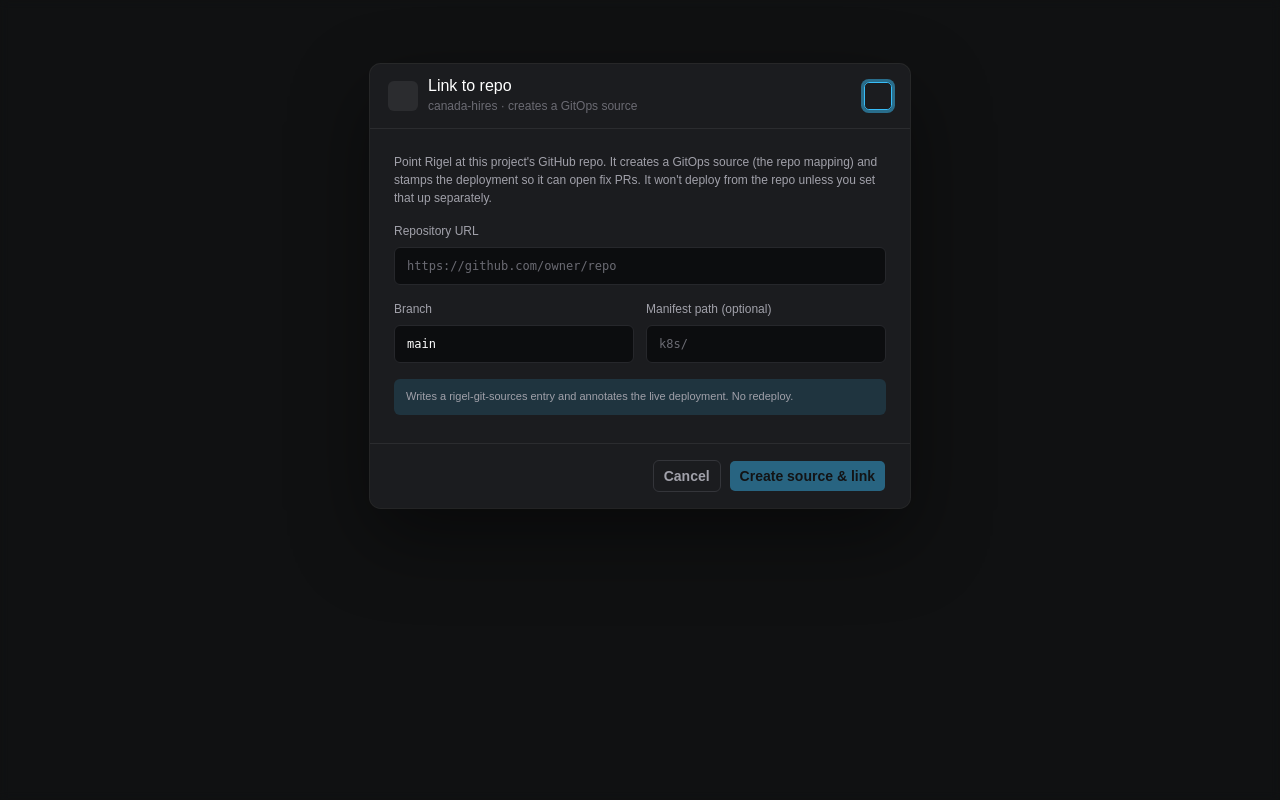
Scenario: LinkRepoModal › shows the deployment subtitle and keeps submit disabled until a repo URL is entered
Expected: the text "canada-hires · creates a GitOps source" is shown, [428, 98, 637, 114]
Expected: the button "Create source & link" is disabled, [729, 460, 886, 492]
In the field labelled "Repository URL": coordinates (640, 266) [394, 247, 886, 285], type "https://github.com/tyrel/canada-hires"
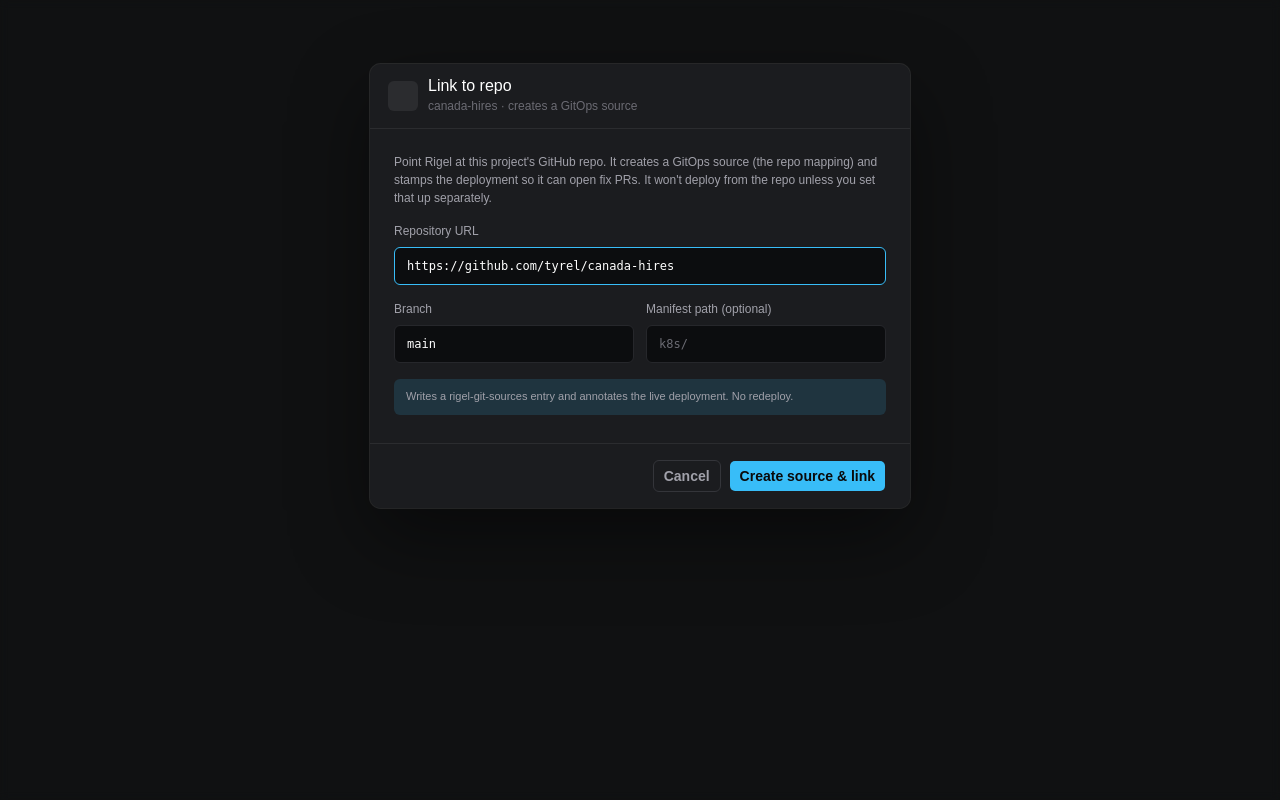
Result: the button "Create source & link" is enabled at [729, 460, 886, 492]
